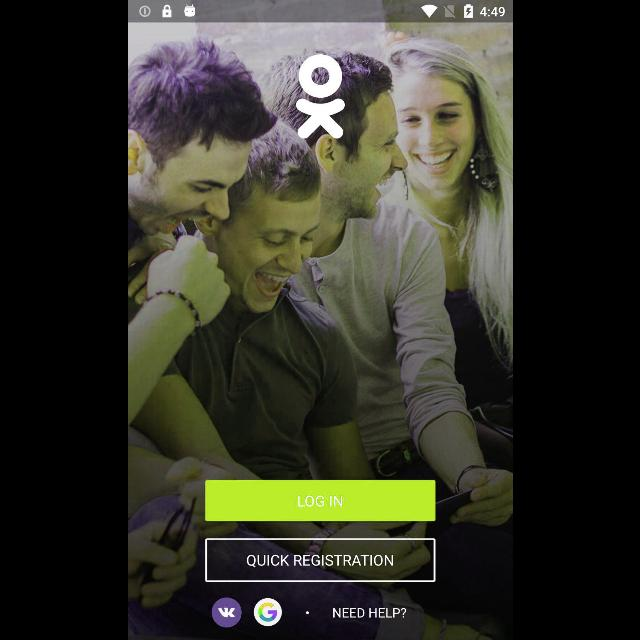backgroundimage: (128, 22, 512, 640)
icon: (253, 598, 281, 626)
image: (296, 55, 344, 139), (211, 598, 241, 628)
text: (332, 608, 406, 618)
textbutton: (205, 538, 435, 582), (205, 481, 435, 522)
uppertaskbar: (128, 1, 512, 23)
